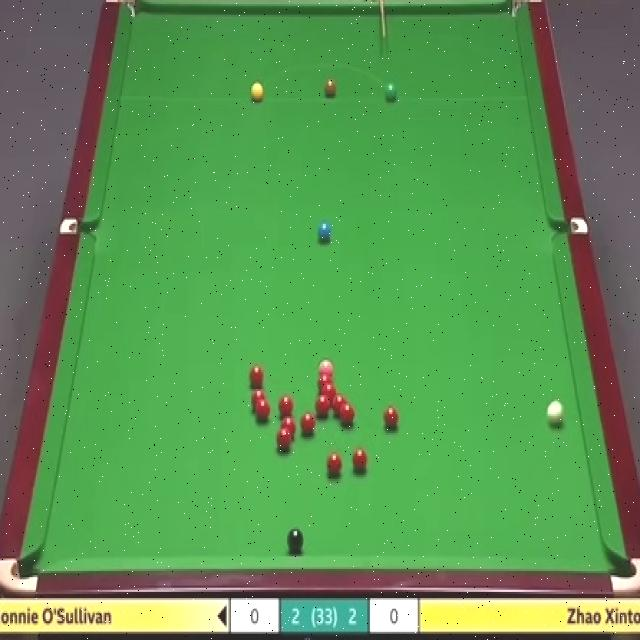black-ball: (285, 526, 304, 550)
blue-ball: (317, 222, 332, 240)
brown-ball: (325, 79, 336, 98)
green-ball: (383, 80, 399, 103)
pink-ball: (317, 367, 333, 383)
red-ball: (325, 451, 344, 476), (384, 405, 399, 433), (248, 364, 264, 389), (275, 426, 292, 449), (301, 410, 316, 436), (338, 402, 355, 424), (315, 394, 330, 418), (277, 394, 294, 414), (255, 398, 269, 422), (352, 449, 366, 472), (320, 383, 336, 402), (332, 391, 346, 412), (250, 388, 264, 409), (282, 420, 296, 440)
white-ball: (547, 399, 565, 427)
yellow-ball: (250, 81, 264, 103)
